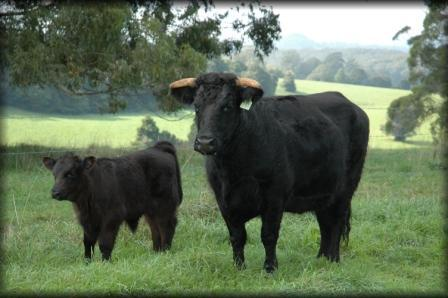muzzles: (191, 132, 223, 158), (49, 188, 68, 203)
